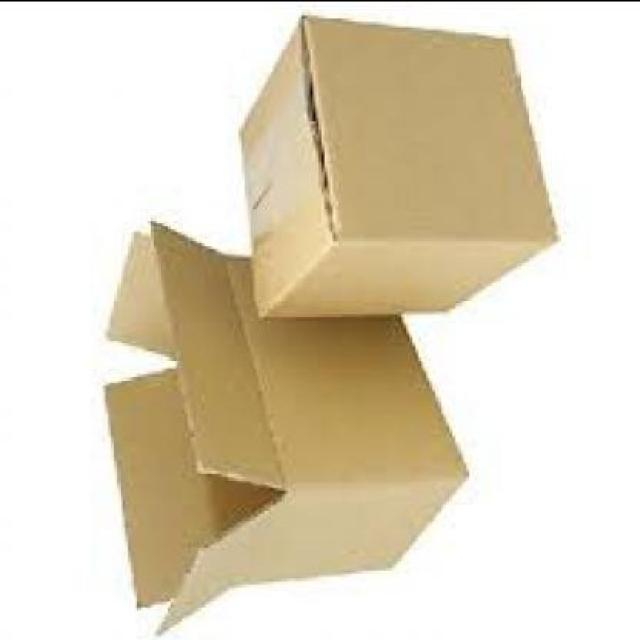CARDBOARD: (102, 228, 464, 637), (236, 17, 561, 318)
